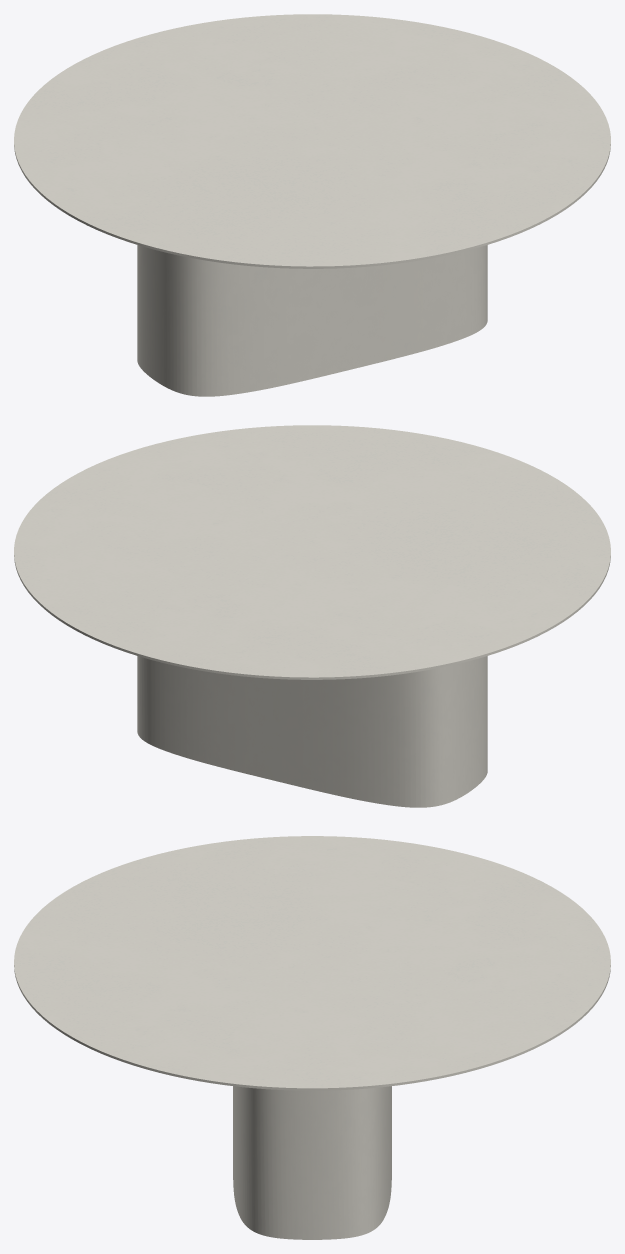
File: pale_round_facet_fixed.glb
3 renders of one model, top to bottom at view 1: azimuth 30°, elevation 25°; view 2: azimuth 150°, elevation 25°; view 3: azimuth 270°, elevation 25°, orthographic.
Visible parts, largest first — view 1: facet_round, fixed; view 2: facet_round, fixed; view 3: facet_round, fixed.
Part boxes in pixels (x1,y1,x2,y2): facet_round: [14, 14, 610, 268]; fixed: [137, 245, 487, 396]; facet_round: [14, 425, 610, 679]; fixed: [137, 656, 487, 807]; facet_round: [14, 836, 610, 1090]; fixed: [233, 1086, 391, 1239].
Bounding box in the file's own units: 6.75 × 2.49 × 6.75.
1 material, 1 textured.
